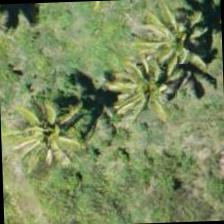Kelapa_Sawit: (2, 84, 95, 176), (104, 33, 196, 126), (141, 0, 223, 85)
